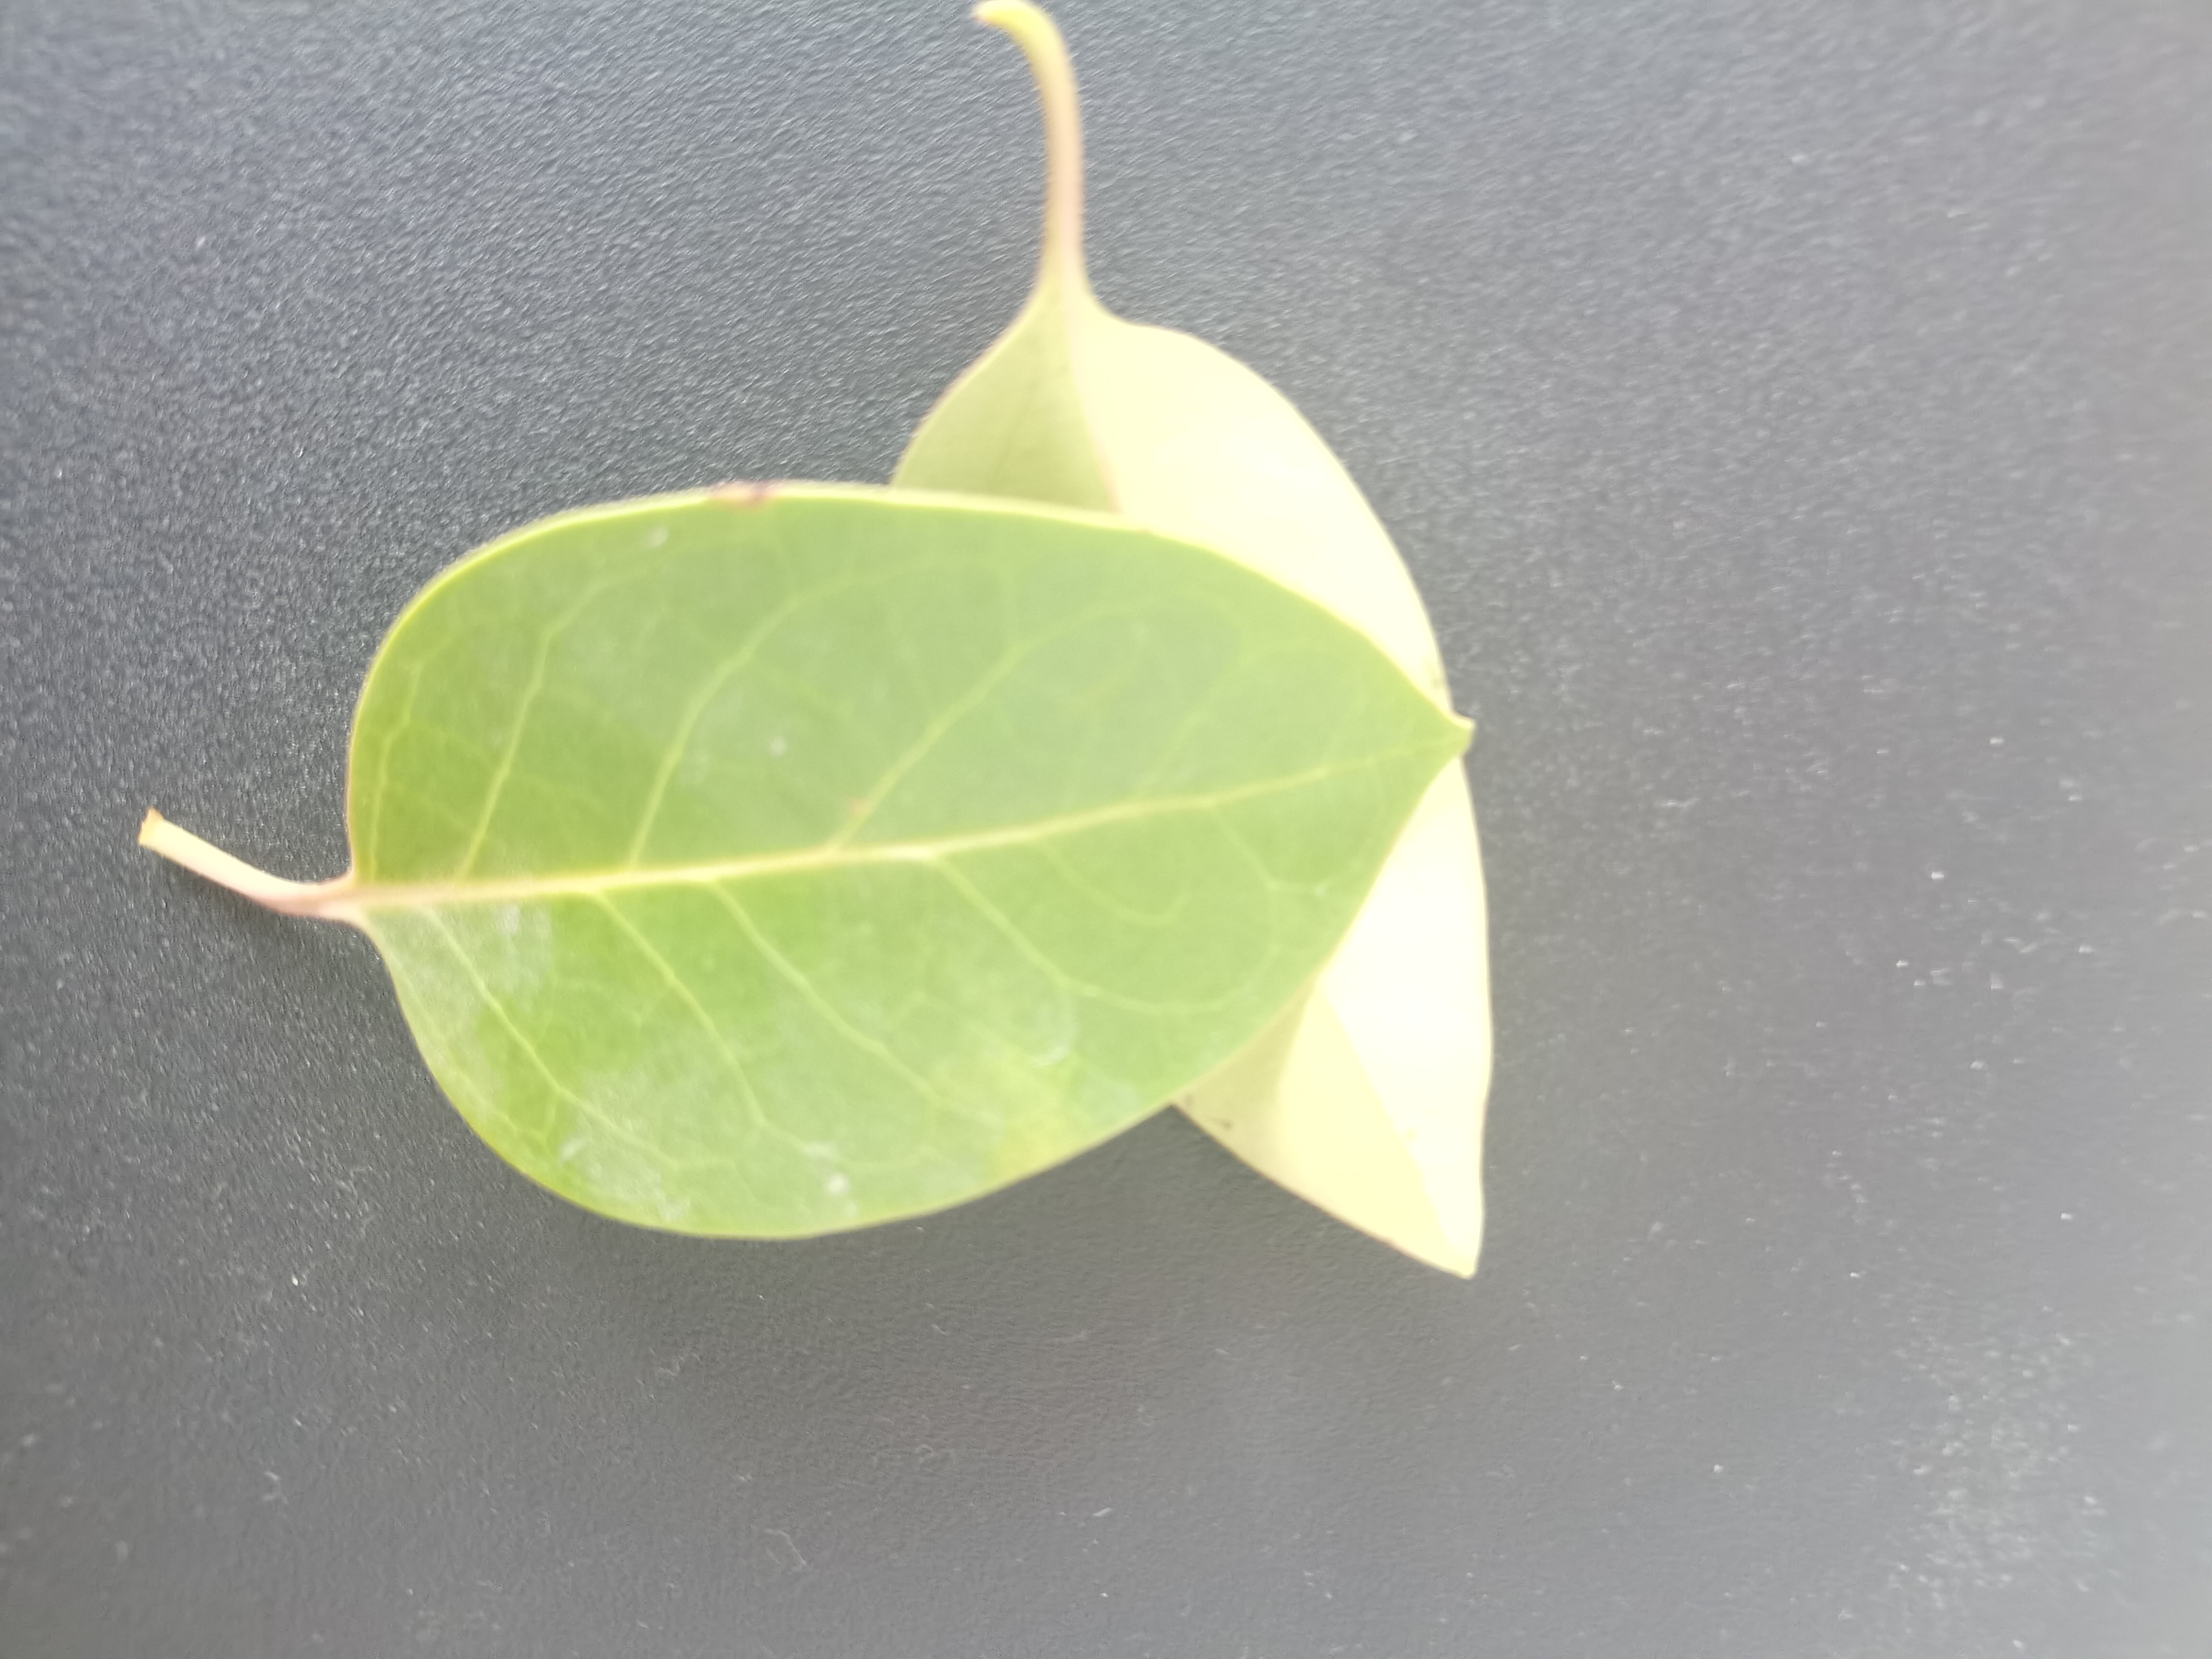4/易腐垃圾/叶子: (132, 474, 1475, 1241), (883, 0, 1498, 1283)
